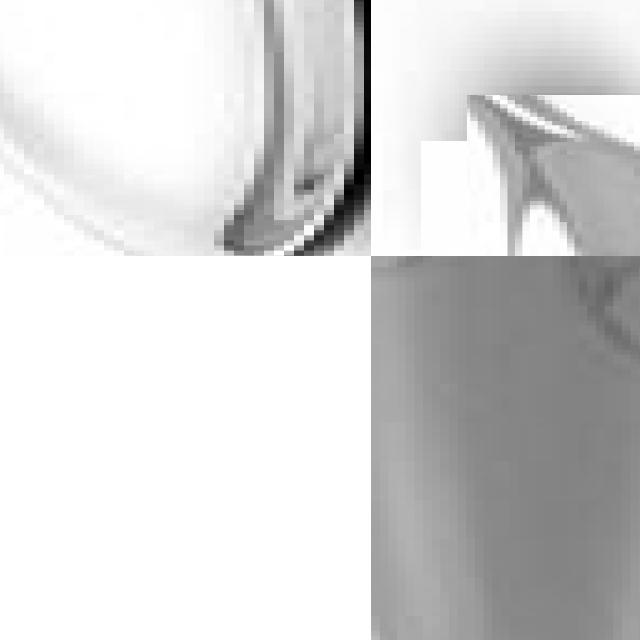spoons: (0, 0, 371, 256), (444, 118, 640, 256)
